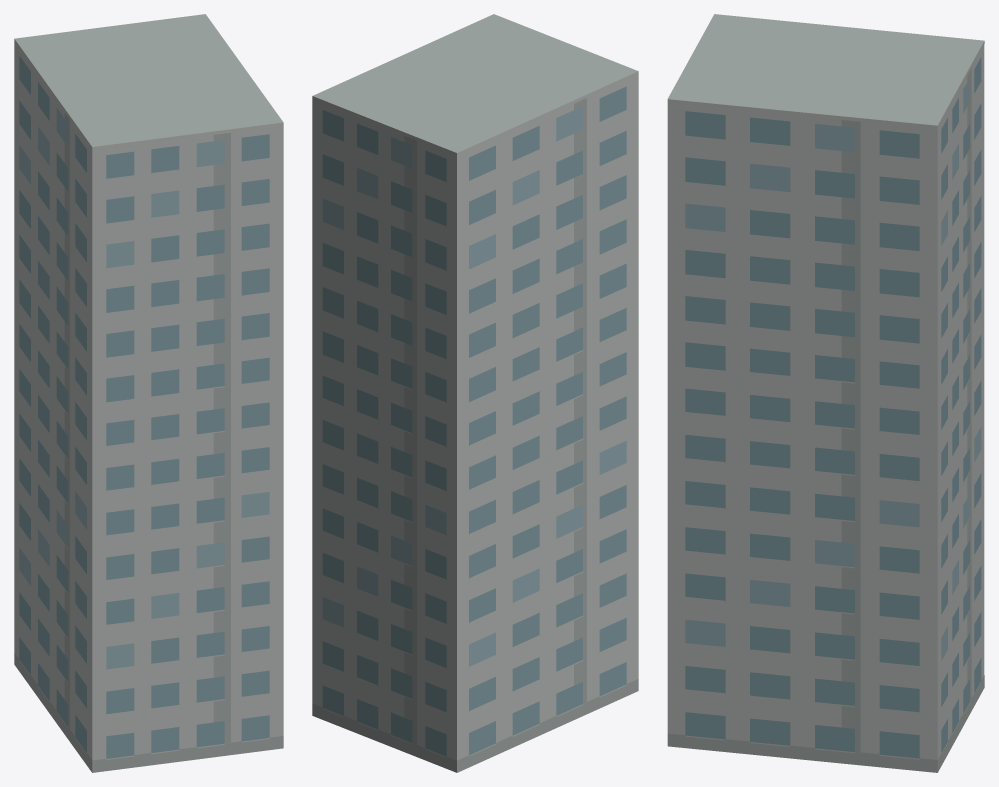
File: residential-5f73a725-4e8b-4d00-9b0e-fd77a95ea932.glb
3 views of the same model, side by side, from view 1: azimuth 30°, elevation 25°; view 2: azimuth 150°, elevation 25°; view 3: azimuth 270°, elevation 25° (orthographic). The views are drawn at different scales.
Parts seen in each view (by area): view 1: residential-5f73a725-4e8b-4d00-9b0e-fd77a95ea932.tmp; view 2: residential-5f73a725-4e8b-4d00-9b0e-fd77a95ea932.tmp; view 3: residential-5f73a725-4e8b-4d00-9b0e-fd77a95ea932.tmp.
Part boxes in pixels (x1=…): residential-5f73a725-4e8b-4d00-9b0e-fd77a95ea932.tmp: x1=14, y1=14, x2=283, y2=772; residential-5f73a725-4e8b-4d00-9b0e-fd77a95ea932.tmp: x1=312, y1=14, x2=638, y2=772; residential-5f73a725-4e8b-4d00-9b0e-fd77a95ea932.tmp: x1=667, y1=14, x2=984, y2=772.
Bounding box in the file's own units: 16.3 × 44 × 19.54.
